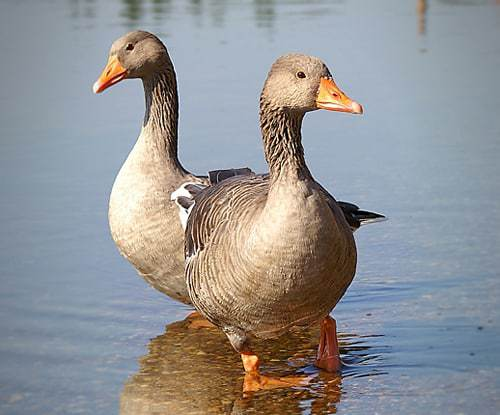Vịt/Duck: (207, 38, 382, 399), (61, 13, 239, 332)
